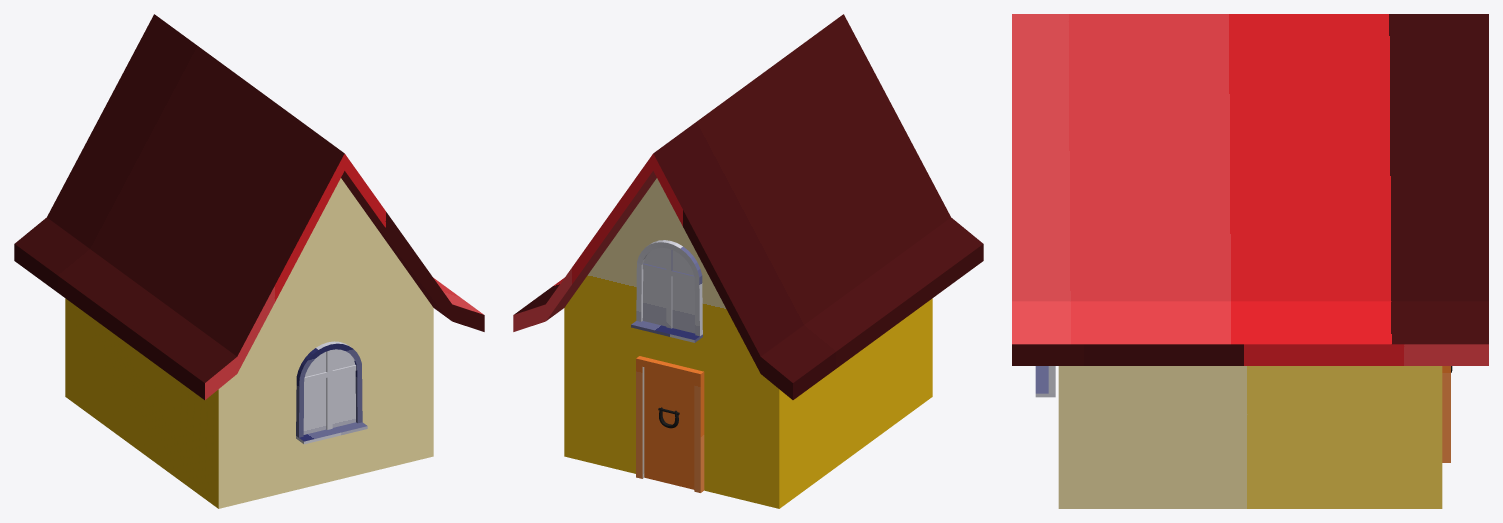
File: house.fbx
3 views of the same model, side by side, from view 1: azimuth 30°, elevation 25°; view 2: azimuth 150°, elevation 25°; view 3: azimuth 270°, elevation 25° (orthographic). The views are drawn at different scales.
Parts seen in each view (by area): view 1: Sphere; view 2: Sphere; view 3: Sphere.
Boxes of the visible parts, x1,y1,x2,y2 form: Sphere: (14,14,484,508); Sphere: (513,14,983,508); Sphere: (1012,14,1488,508).
Size of the model in its own units: 866 by 1015 by 1022.
